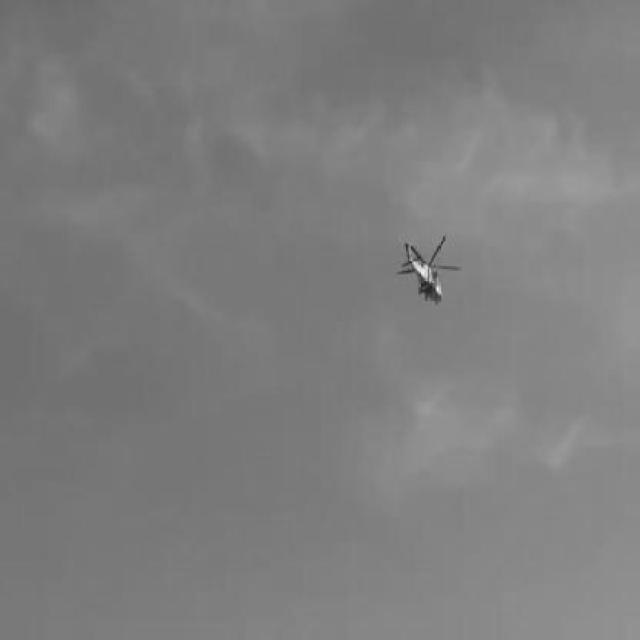helikopter: (398, 234, 460, 304)
